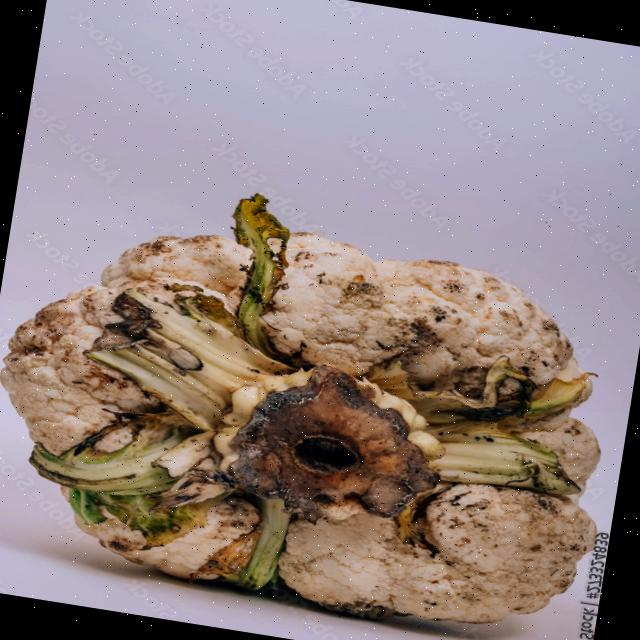rotten cabbage: (0, 168, 625, 640)
